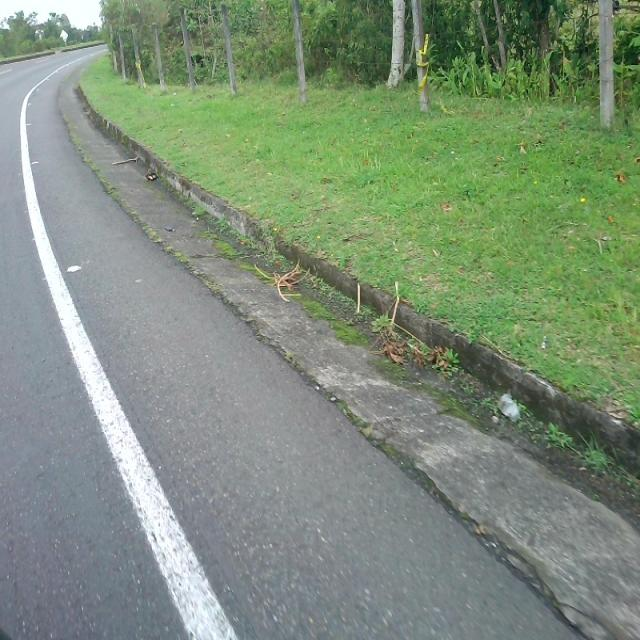DITCH: (57, 47, 638, 638)
